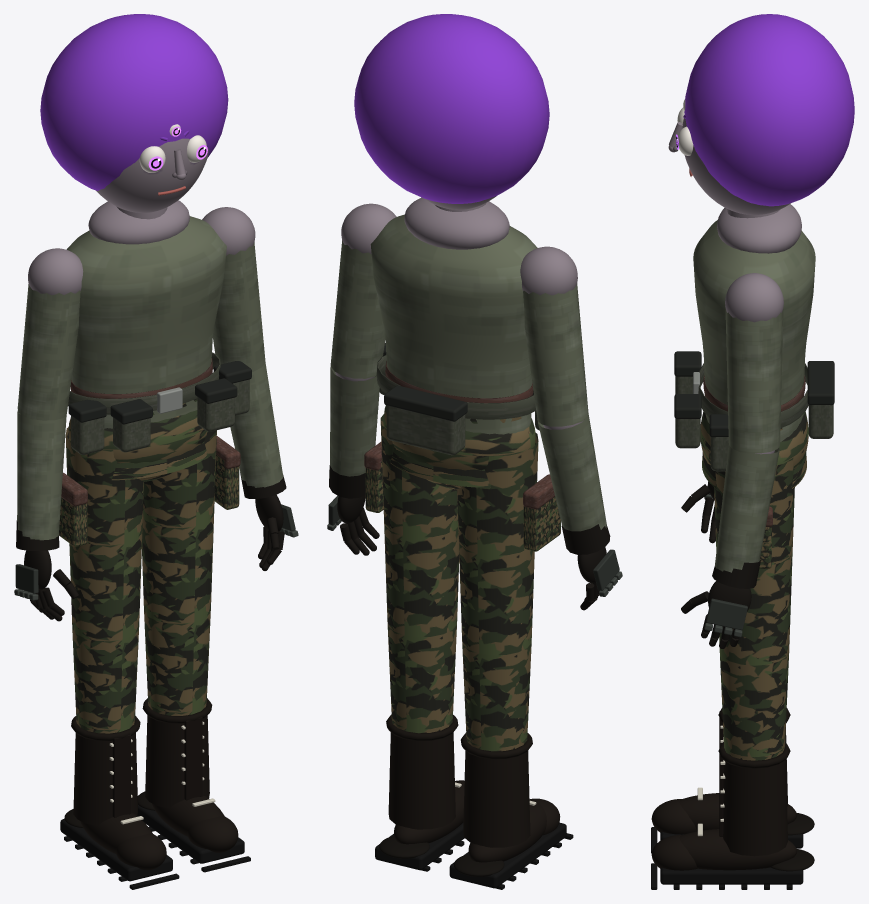
The model's file is 11-mutant-a-trois-yeux.glb.
3 renders of one model, left to right at view 1: azimuth 30°, elevation 25°; view 2: azimuth 150°, elevation 25°; view 3: azimuth 270°, elevation 25°, orthographic. The views are drawn at different scales.
Size of the model in its own units: 0.6344 by 1.84 by 0.406.
Materials: 26 (5 with a texture image).
